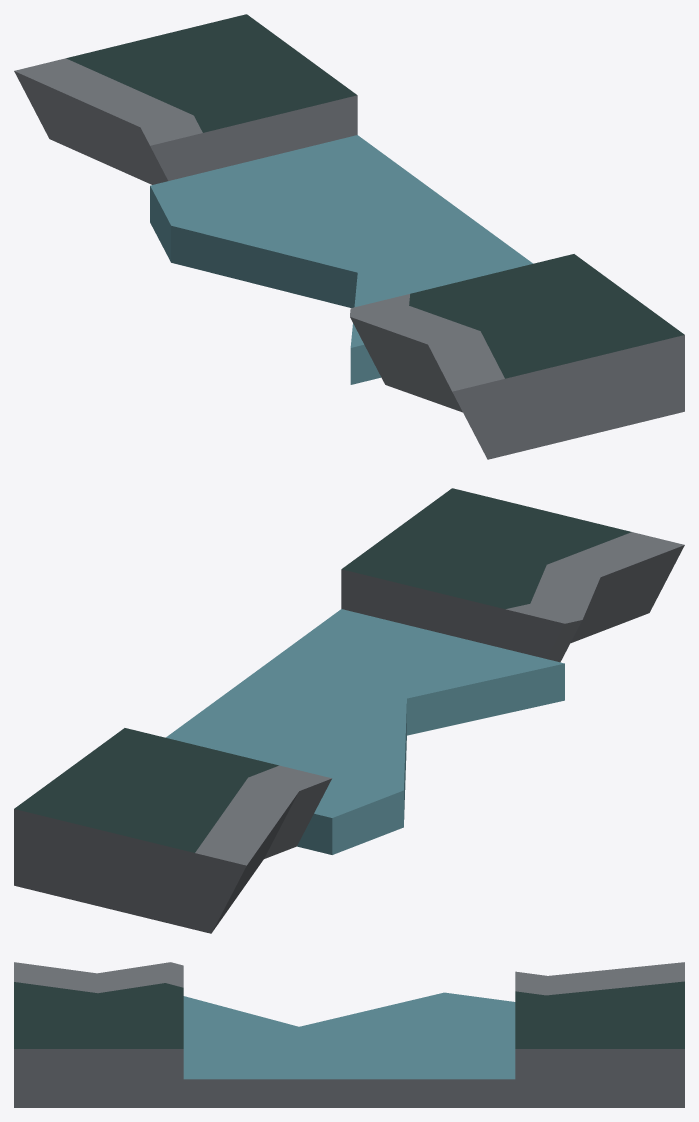
The model's file is Grey_Waterfall_Top_01.obj.
3 renders of one model, top to bottom at view 1: azimuth 30°, elevation 25°; view 2: azimuth 150°, elevation 25°; view 3: azimuth 270°, elevation 25°, orthographic. The views are drawn at different scales.
Visible parts, largest first — view 1: Mesh1_Grey_Waterfall_Top_Model; view 2: Mesh1_Grey_Waterfall_Top_Model; view 3: Mesh1_Grey_Waterfall_Top_Model.
Part boxes in pixels (box(x1,y1,x2,y2)): Mesh1_Grey_Waterfall_Top_Model: box(14, 14, 684, 459); Mesh1_Grey_Waterfall_Top_Model: box(14, 488, 684, 933); Mesh1_Grey_Waterfall_Top_Model: box(14, 962, 684, 1107).
Size of the model in its own units: 0.92 by 0.29 by 3.
